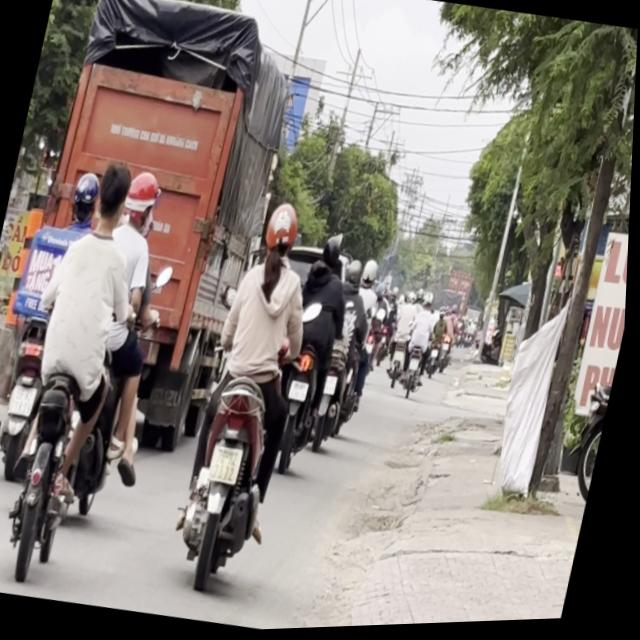helmet: (257, 198, 305, 275), (119, 164, 164, 232), (66, 167, 104, 225), (319, 233, 346, 273)
licenseplate: (0, 147, 205, 607), (160, 189, 339, 598), (265, 228, 363, 473)
motorcyclist: (88, 156, 137, 235)
nohelmet: (209, 444, 246, 486), (9, 380, 40, 415), (289, 380, 311, 401)
